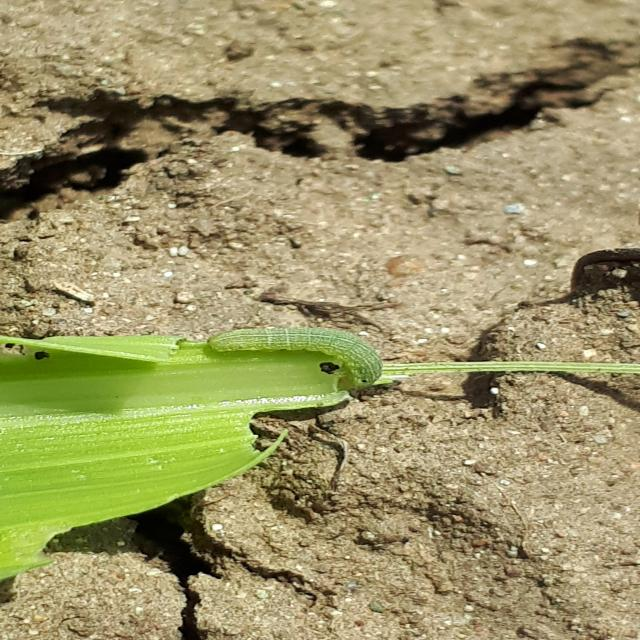armyworm: (206, 327, 391, 398)
